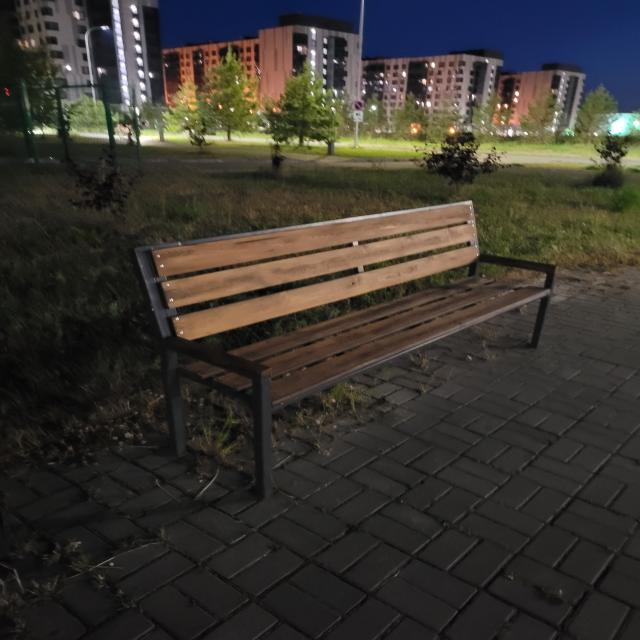Bench: (130, 200, 558, 498)
